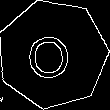O_N: (30, 28, 76, 81)
